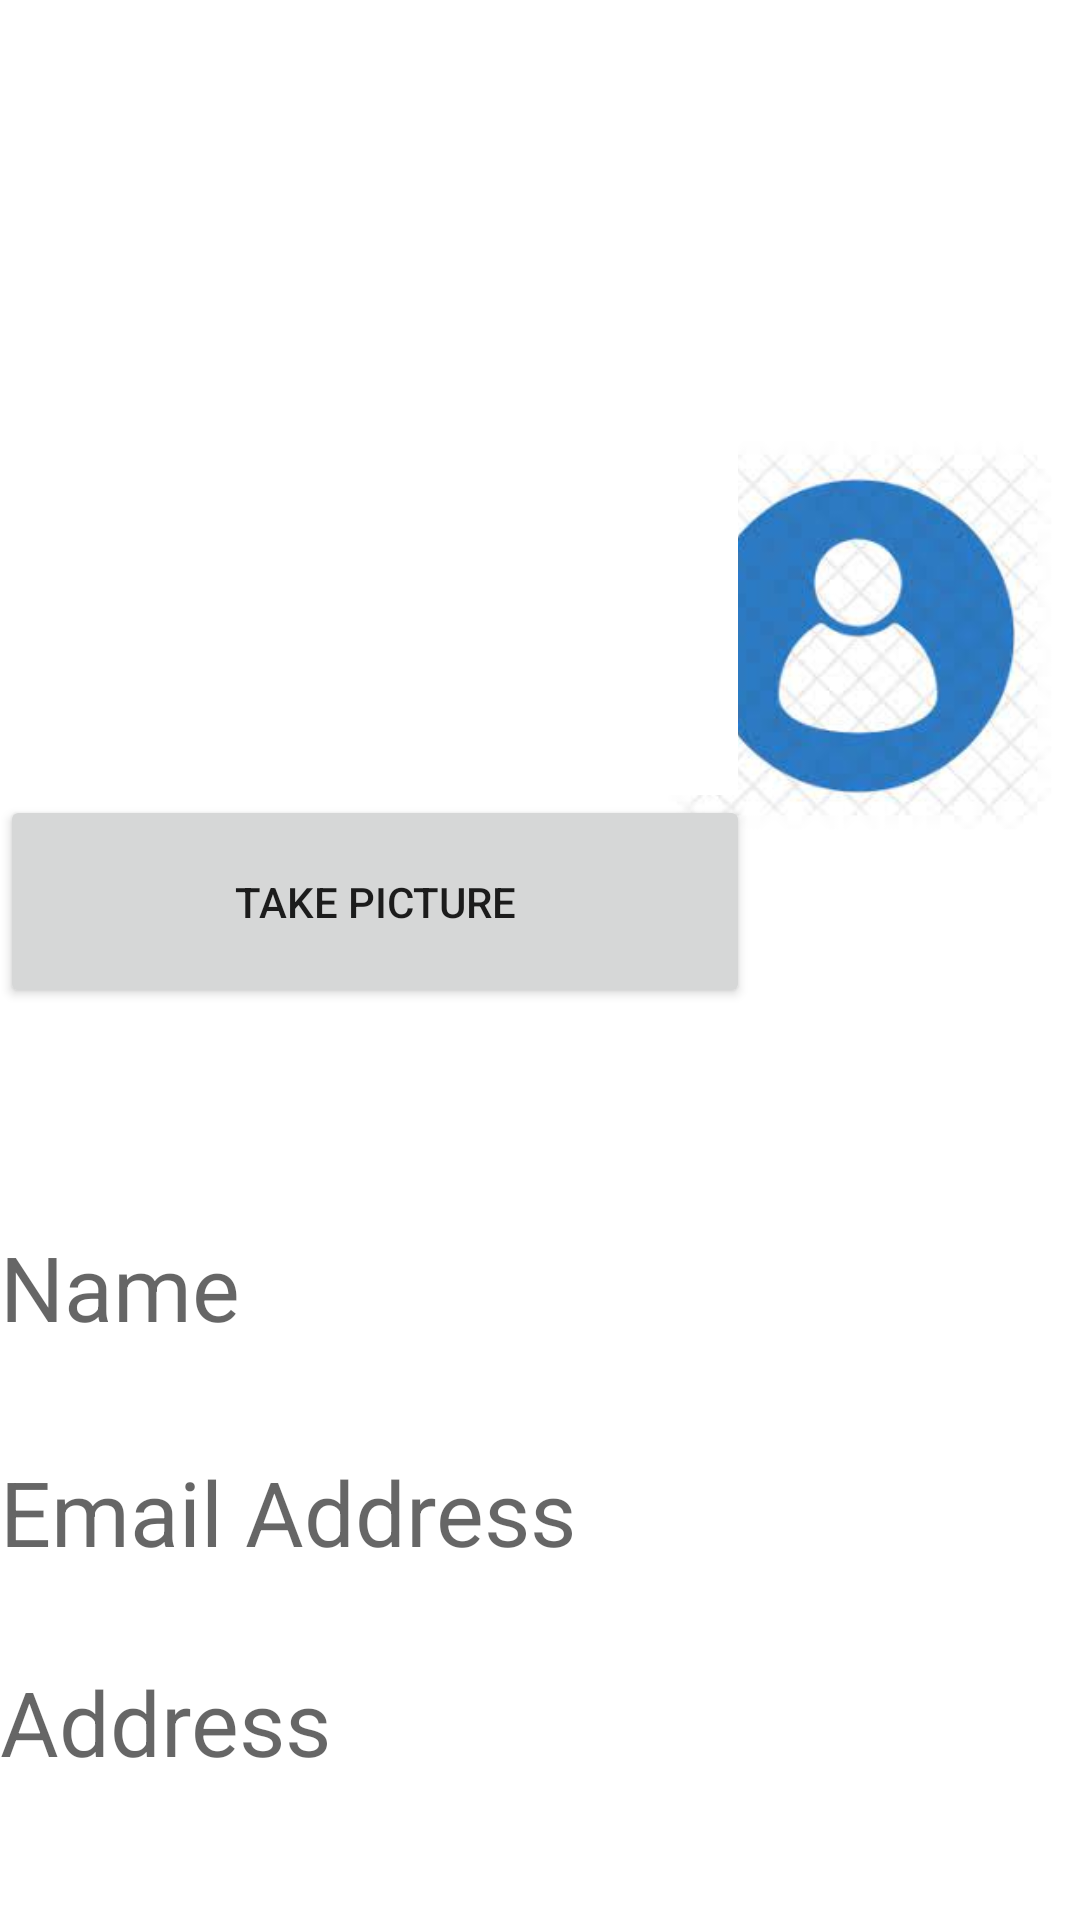

Where to tap for icons on this 1080px x 1920px app screen, as point (x, y):
profileicon: point (879, 635)
